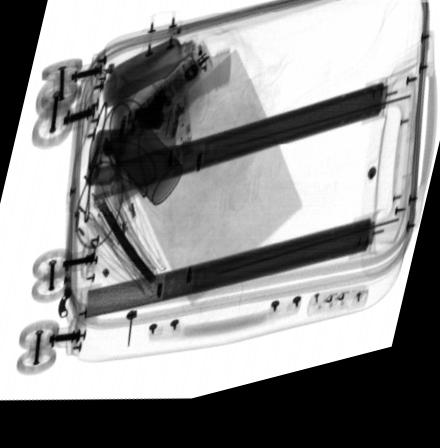Powerbank: (107, 89, 192, 215)
